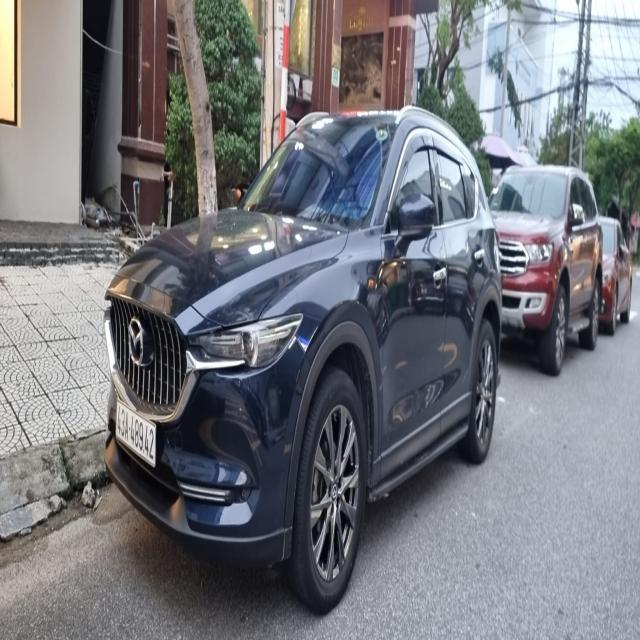car: (75, 101, 514, 606), (489, 158, 629, 365)
plate: (111, 399, 162, 472)
